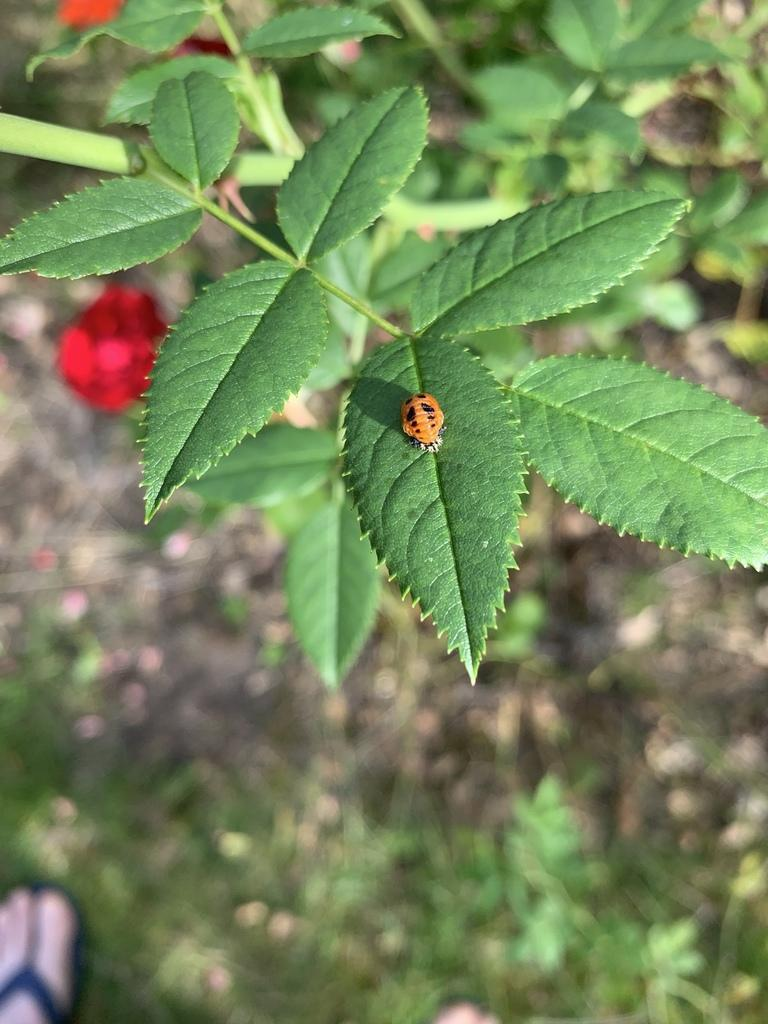ladybug: (401, 392, 450, 455)
